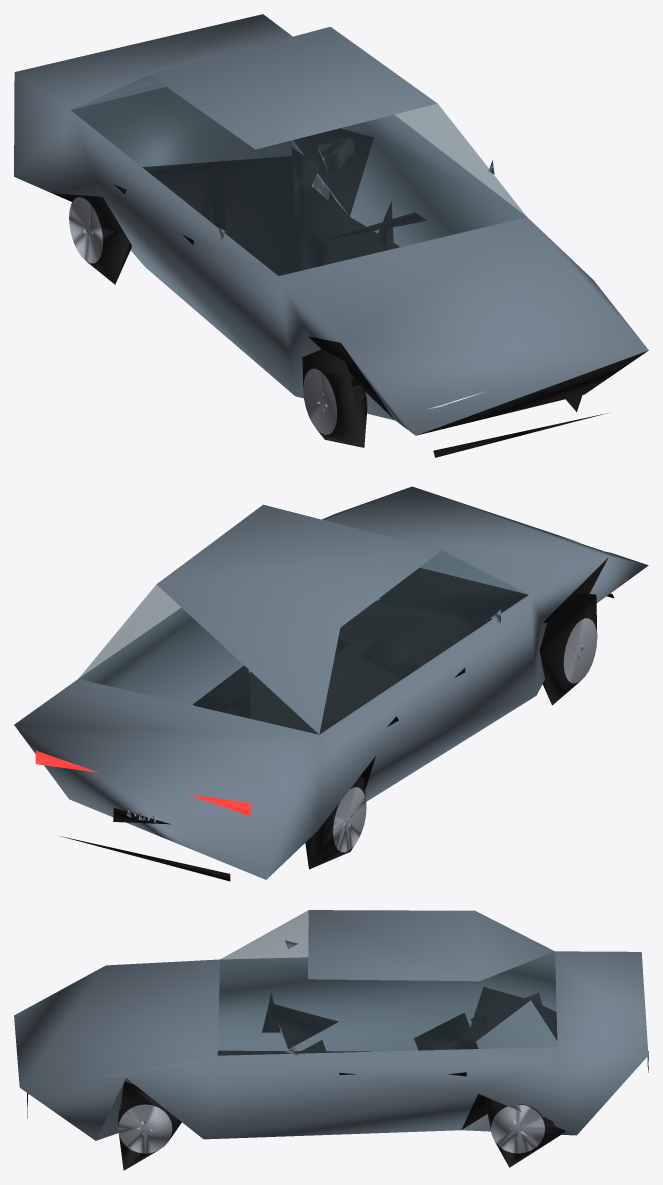
The model's file is arden_civic_lod2.glb.
3 renders of one model, top to bottom at view 1: azimuth 30°, elevation 25°; view 2: azimuth 150°, elevation 25°; view 3: azimuth 270°, elevation 25°, orthographic. The views are drawn at different scales.
Parts seen in each view (by area): view 1: arden_civic_lod2; view 2: arden_civic_lod2; view 3: arden_civic_lod2.
Boxes of the visible parts, <box> form: arden_civic_lod2: <box>14,14,648,457</box>; arden_civic_lod2: <box>14,486,648,881</box>; arden_civic_lod2: <box>14,910,648,1170</box>.
Bounding box in the file's own units: 1.87 × 1.49 × 4.69.
